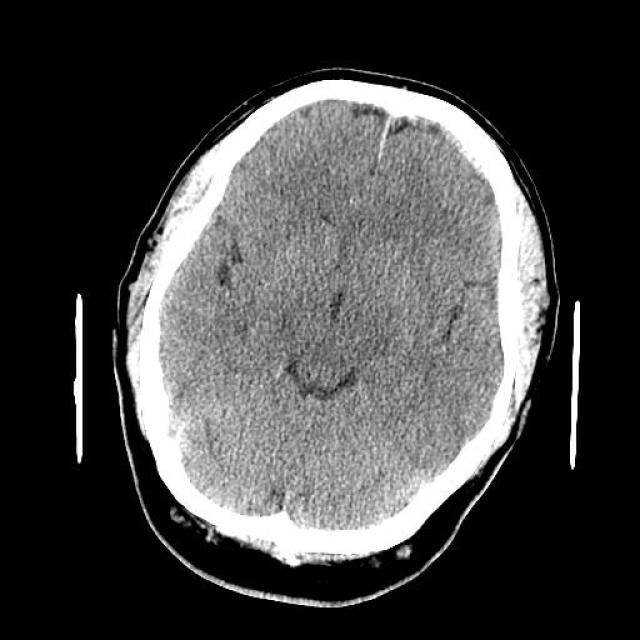Subdural: (404, 99, 504, 220)
